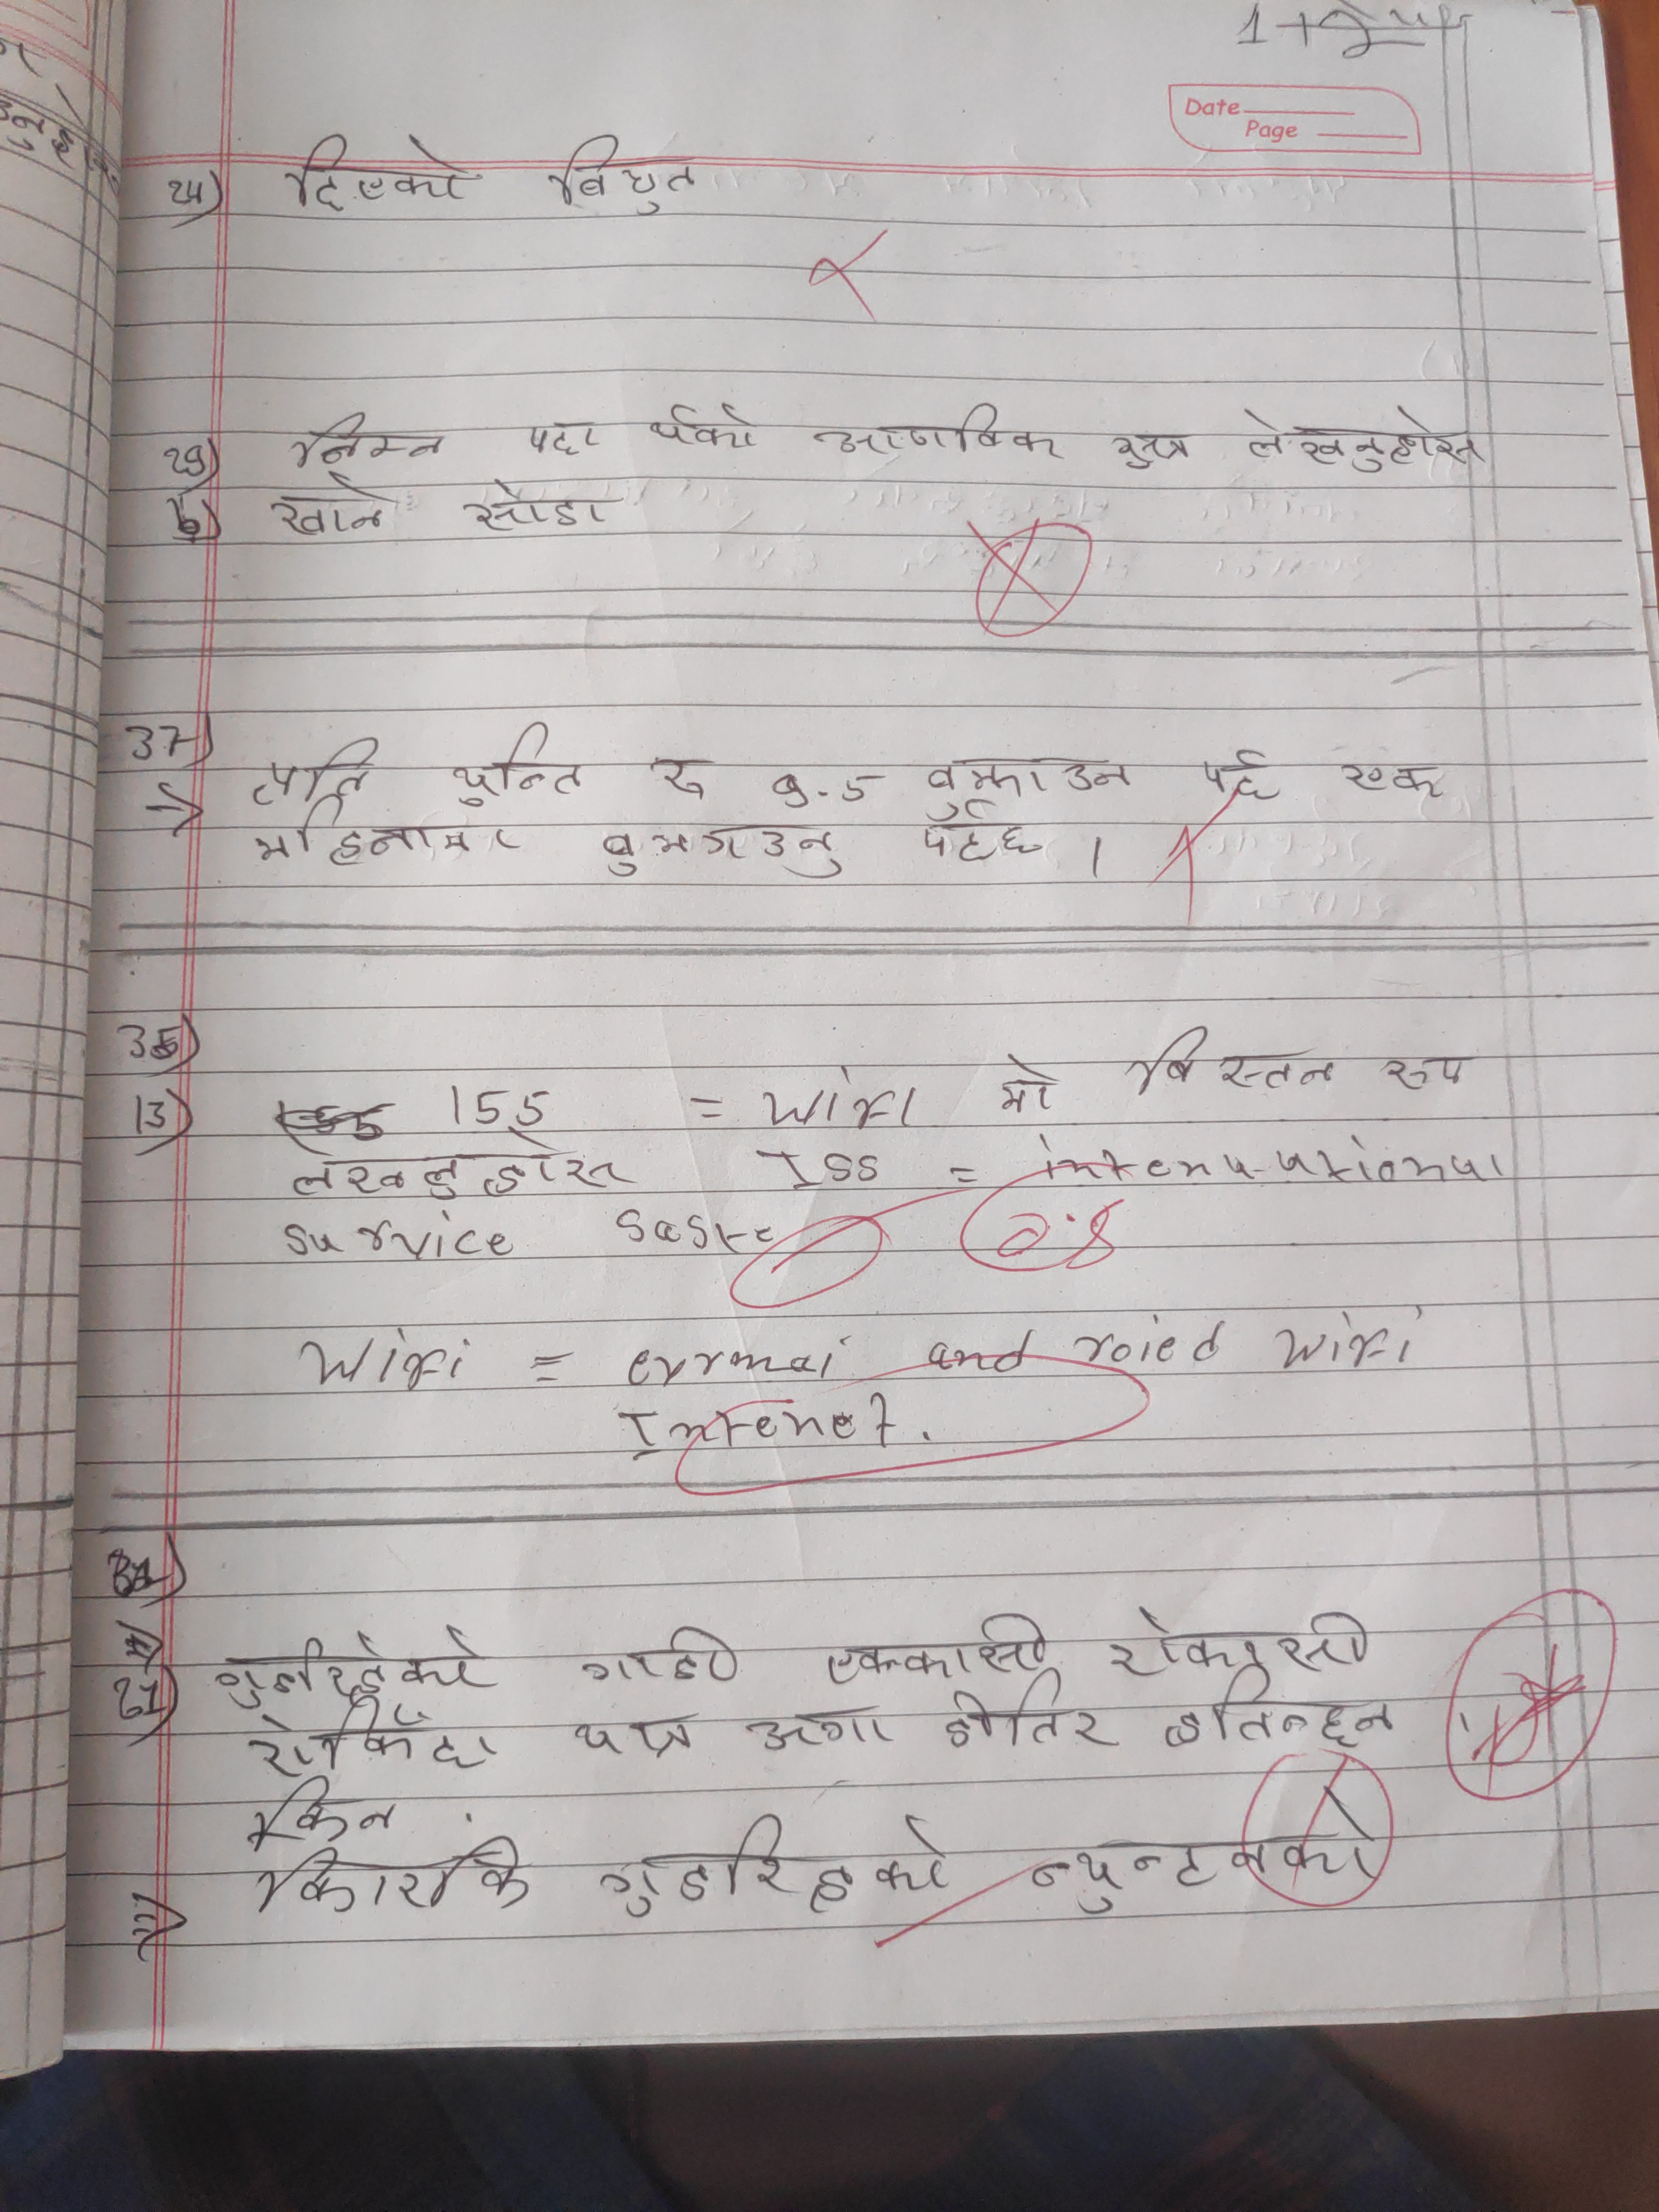text: (1028, 1792, 1394, 1916), (596, 1811, 964, 1916), (209, 1627, 491, 1710), (1103, 1599, 1382, 1676), (240, 1846, 538, 1918), (1234, 401, 1486, 475), (1154, 1674, 1410, 1747), (589, 822, 852, 888), (247, 799, 477, 874), (812, 401, 1065, 467), (246, 1709, 504, 1770), (284, 134, 476, 216), (823, 1613, 1054, 1677), (547, 129, 706, 214), (566, 1623, 746, 1691), (448, 723, 584, 812), (246, 725, 394, 805), (934, 1684, 1112, 1749), (242, 1778, 406, 1844), (917, 756, 1134, 803), (286, 409, 453, 470), (737, 1703, 896, 1757), (268, 474, 390, 542), (918, 805, 1046, 862), (464, 482, 606, 533), (573, 1707, 699, 1763), (647, 397, 756, 458), (1337, 759, 1448, 803), (1112, 423, 1197, 477), (645, 749, 716, 808), (523, 416, 606, 463), (1199, 751, 1279, 799)
